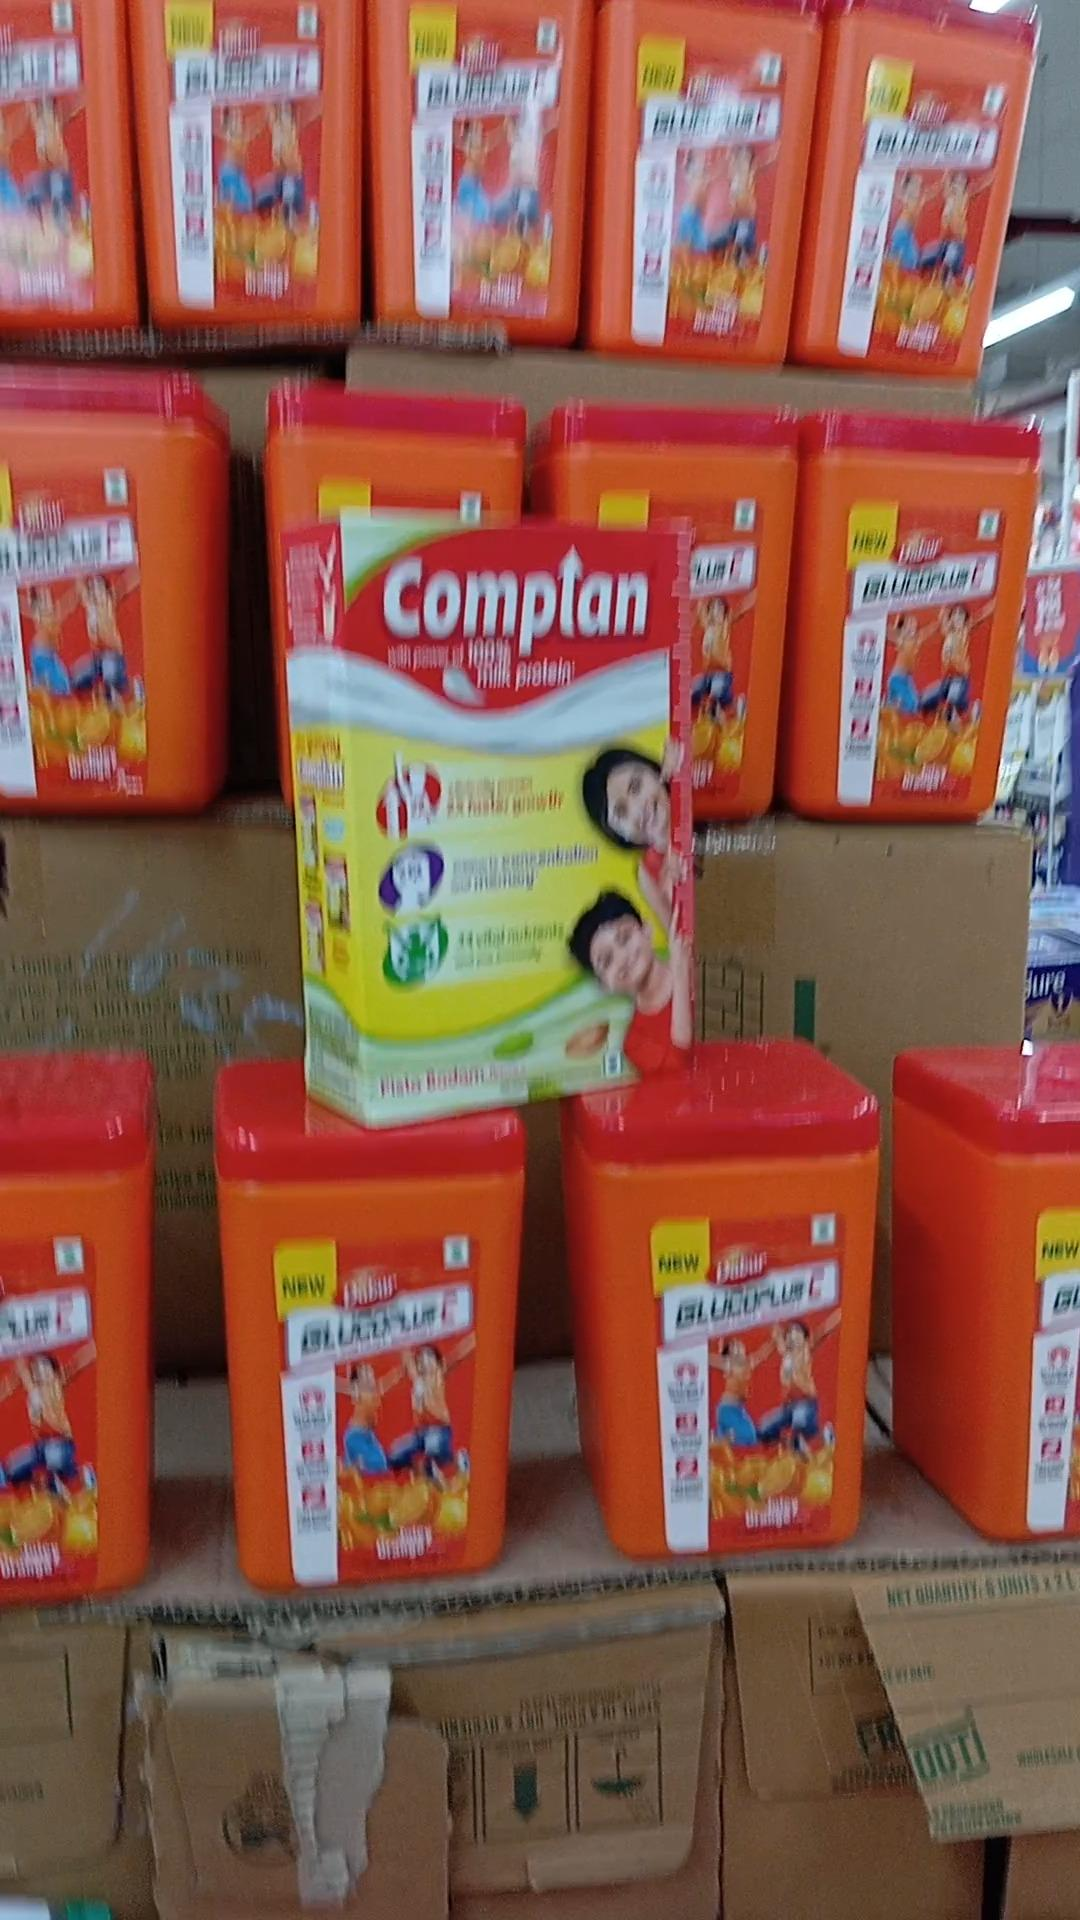COMPLAN_PISTA_BADAM_500_GMS_PACK: (352, 516, 684, 1114)
